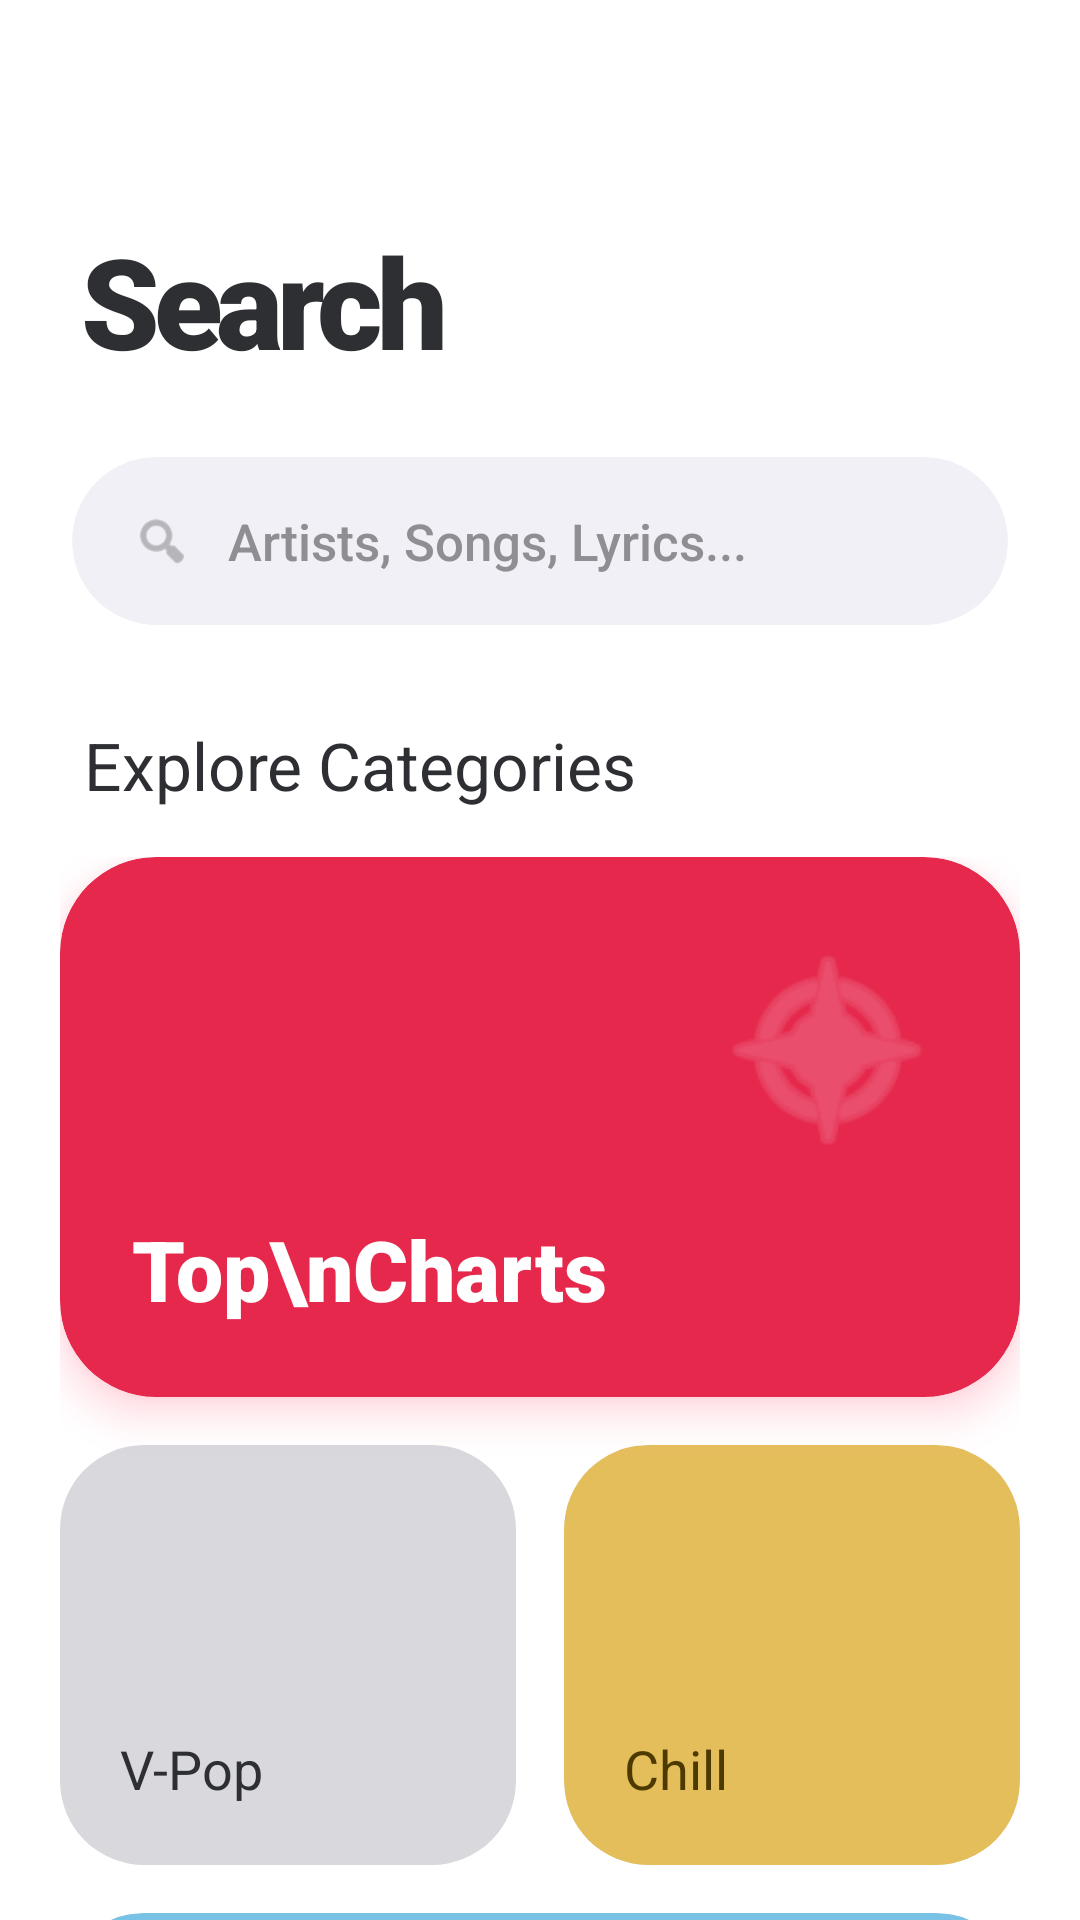

Icon bounding boxes for this 1080 x 1920 phone screenshot, format (x1=x1, y1=y1, x2=x2, y2=y2):
compass: (x1=734, y1=958, x2=919, y2=1143)
